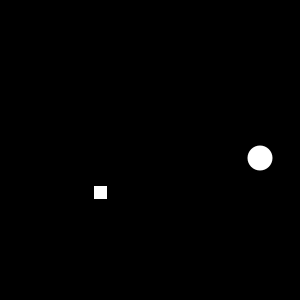circle: (94, 186, 107, 199)
rectangle: (248, 145, 272, 170)
